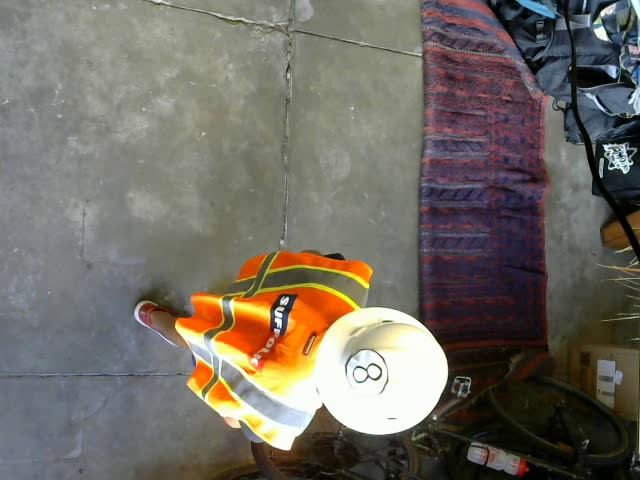eight: (343, 348, 389, 398)
